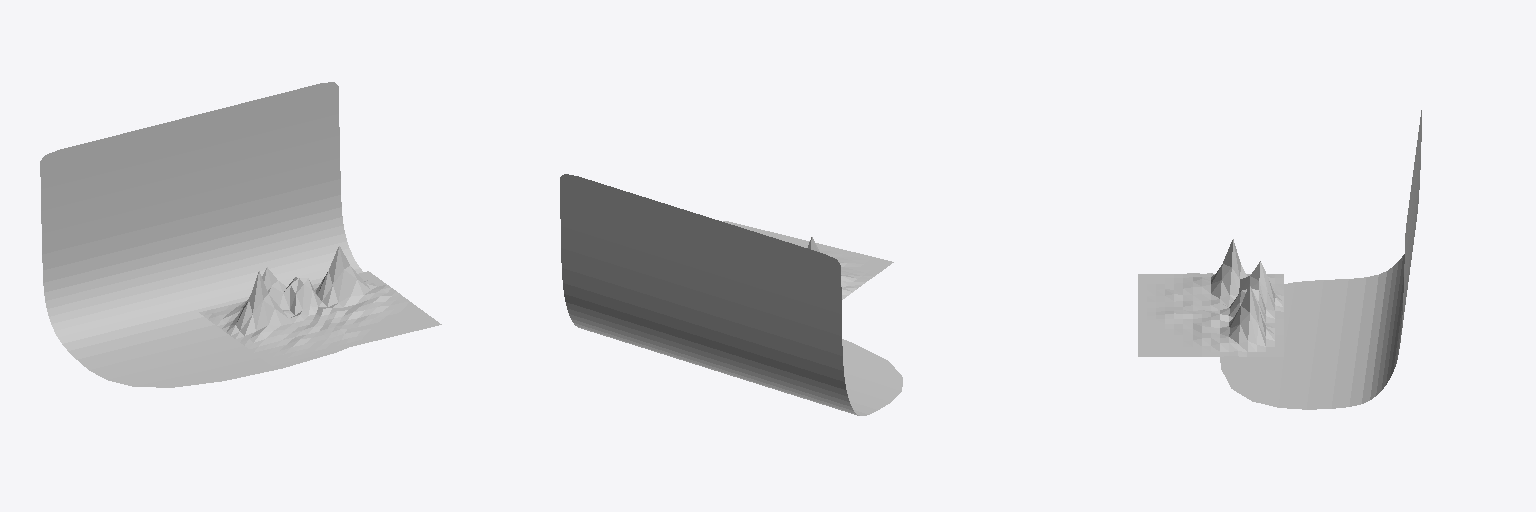
Rendered from lowpolymountains.obj.
The picture shows the model from 3 angles: view 1: azimuth 30°, elevation 25°; view 2: azimuth 150°, elevation 25°; view 3: azimuth 270°, elevation 25°; orthographic projection.
Parts seen in each view (by area): view 1: Plane_Plane.001, Sahne_Plane; view 2: Plane_Plane.001, Sahne_Plane; view 3: Plane_Plane.001, Sahne_Plane.
Boxes of the visible parts, x1=… form: Plane_Plane.001: x1=40, y1=82, x2=362, y2=387; Sahne_Plane: x1=199, y1=246, x2=441, y2=365; Plane_Plane.001: x1=560, y1=174, x2=902, y2=415; Sahne_Plane: x1=723, y1=221, x2=893, y2=299; Plane_Plane.001: x1=1220, y1=110, x2=1421, y2=409; Sahne_Plane: x1=1138, y1=239, x2=1283, y2=356.
Bounding box in the file's own units: 36.38 × 22.72 × 30.83.